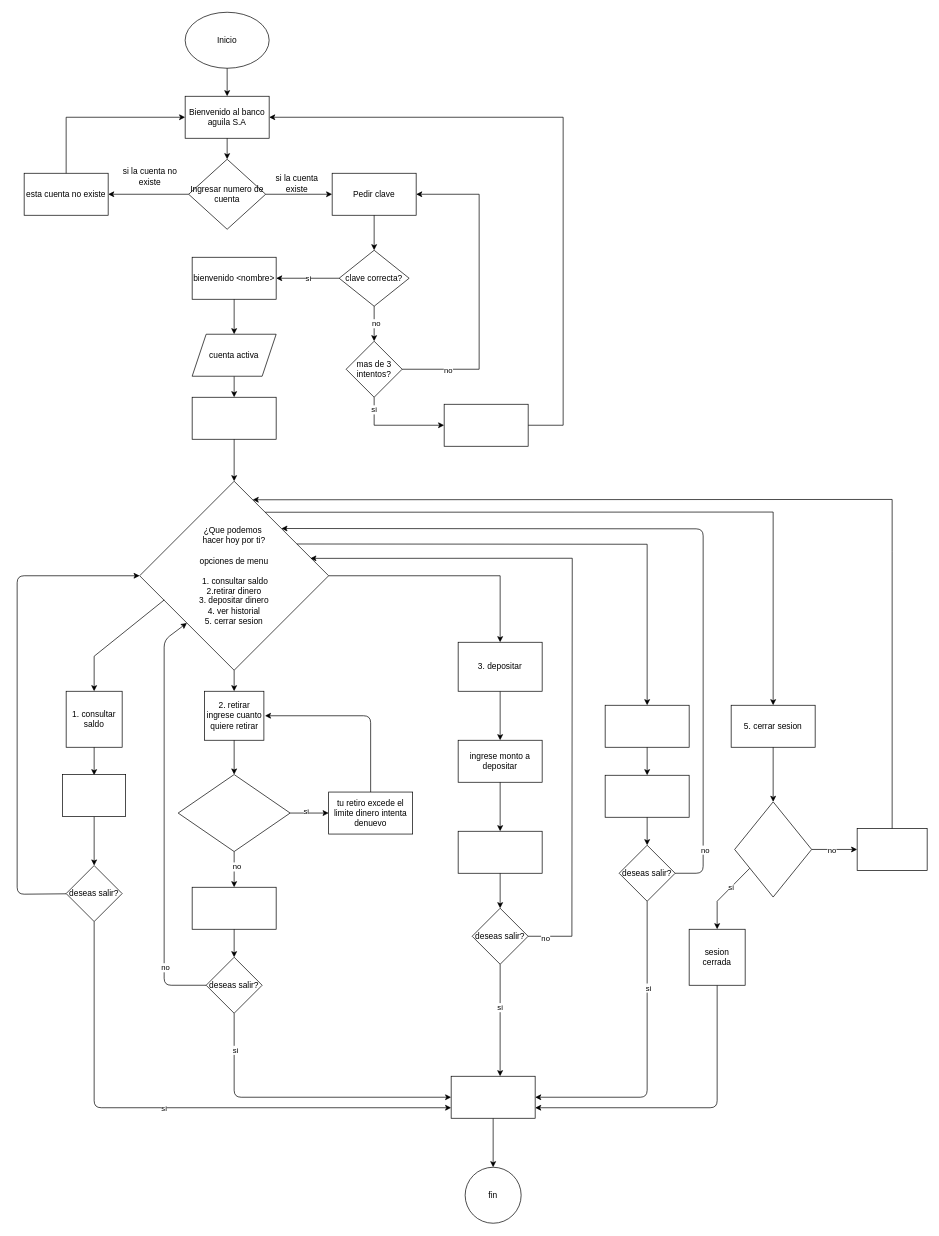
This 939x1236 diagram has some shape labels left out. Here are the shapes that lost their labels. From the top down, the box of each, then its label:
(191, 397, 276, 439): mostrar menu
(443, 404, 528, 446): intenta mas tarde (acceso denegado por 24 horas)
(604, 705, 689, 747): 4. ver historial
(62, 774, 126, 817): hola <nombre> tu saldo es de <$$$>
(177, 774, 290, 852): el monto a retirar es mayor a 7000000?
(604, 775, 689, 817): este es su historial de transaccones
(457, 831, 542, 873): deposito exitoso
(734, 801, 812, 897): esta seguro de cerrar sesion?
(856, 828, 927, 870): sigues con tu sesion abierta y vuelves al menu
(191, 887, 276, 929): tu retiro fe exitoso aqui tienes
(450, 1076, 535, 1118): gracias por preferirnos
